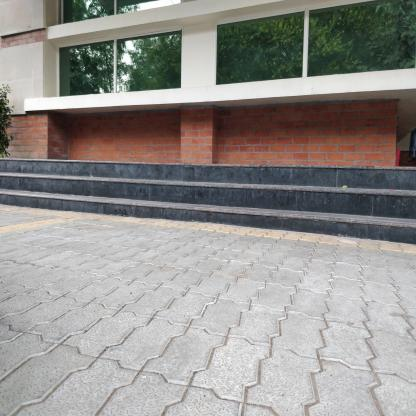stairs: (171, 164, 325, 241)
